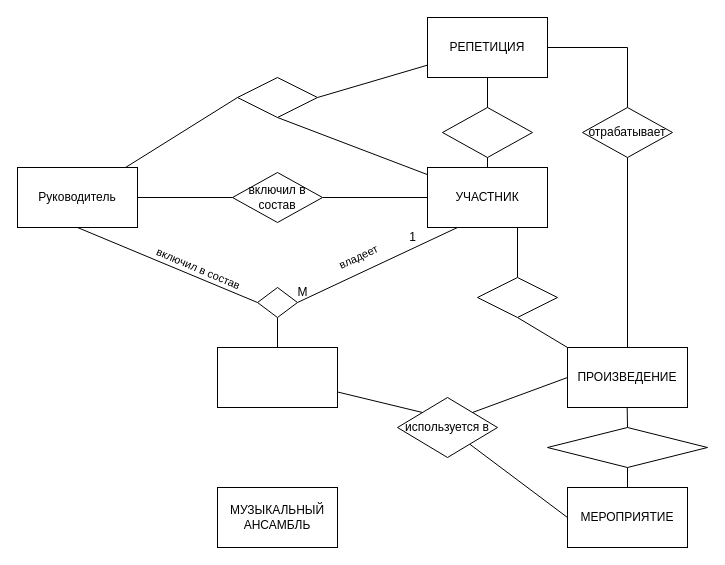
This 725x565 diagram has some shape labels left out. Each missing label, with the centre of its shape:
"играет" belongs at [517,297].
"МУЗЫКАЛЬНЫЙ ИНСТРУМЕНТ" belongs at [277,377].
"назначено" belongs at [487,132].
"отмечает" belongs at [277,97].
"подготавливается для" belongs at [627,447].
